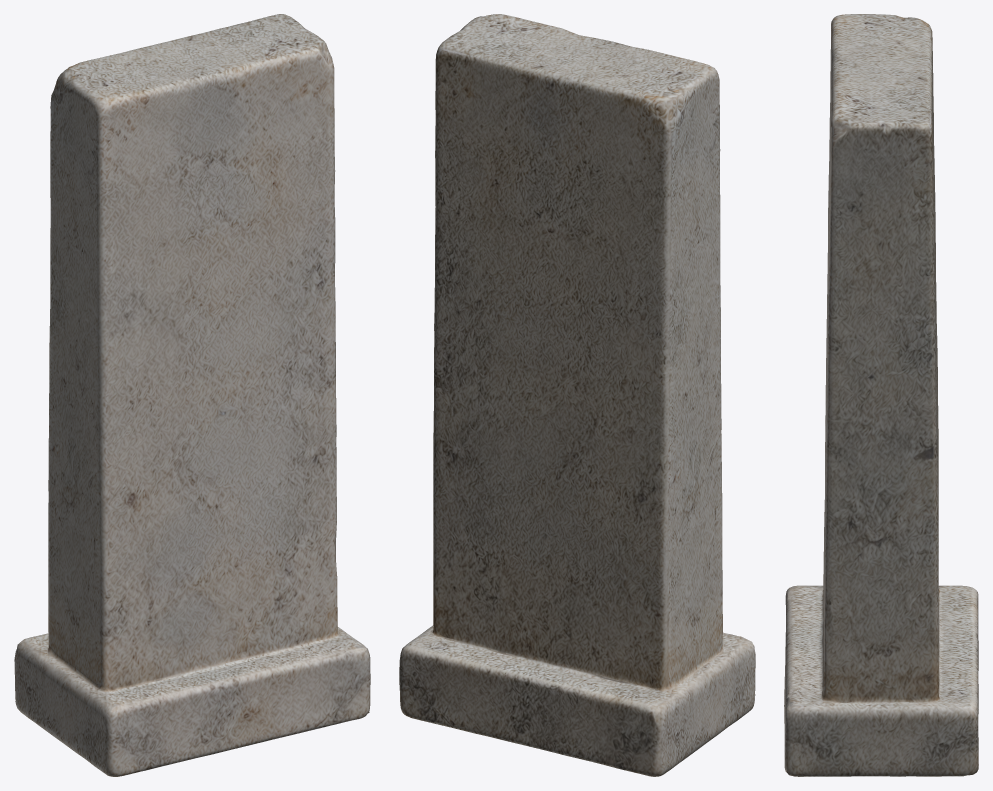
File: NMJ_Pumgyeseok_VARCO.fbx
The picture shows the model from 3 angles, left to right: view 1: azimuth 30°, elevation 25°; view 2: azimuth 150°, elevation 25°; view 3: azimuth 270°, elevation 25°; orthographic projection.
Visible parts, largest first — view 1: texture_mapping; view 2: texture_mapping; view 3: texture_mapping.
Part boxes in pixels (x1,y1,x2,y2): texture_mapping: (14, 14, 370, 776); texture_mapping: (399, 14, 755, 776); texture_mapping: (784, 14, 978, 776).
Bounding box in the file's own units: 0.4198 × 0.2728 × 1.
1 material, 1 textured.
